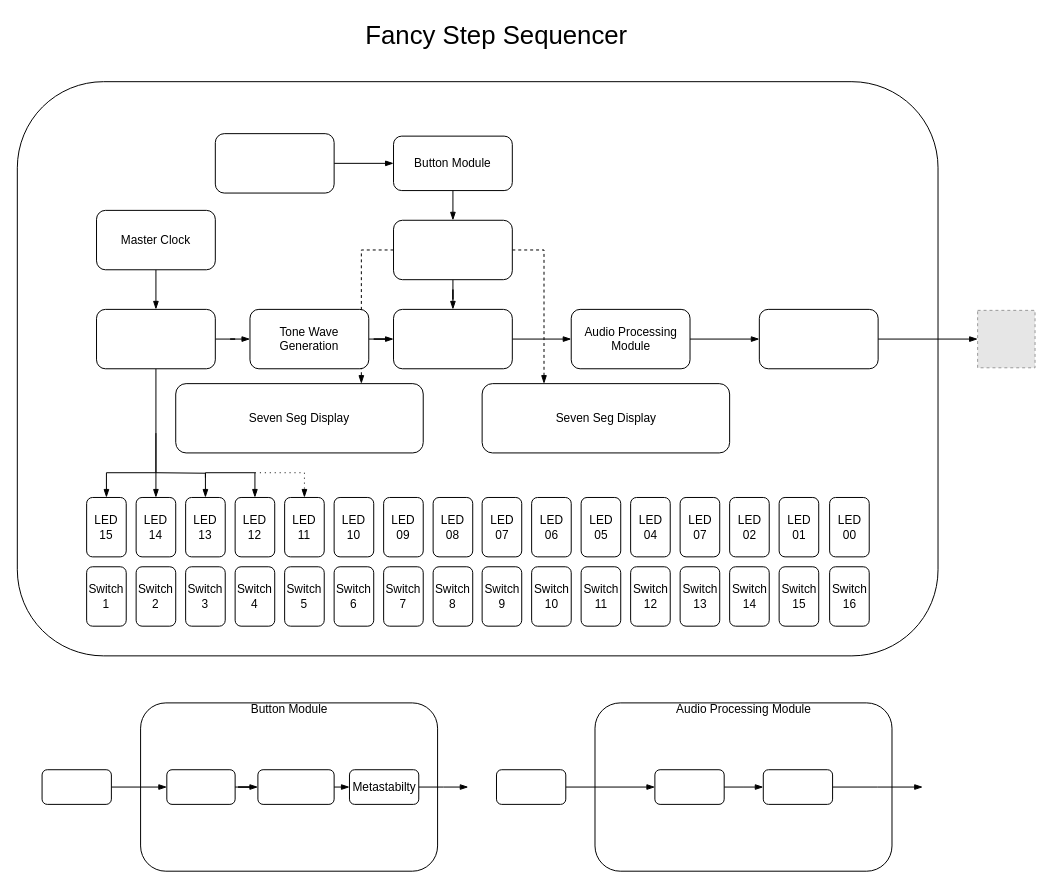
The diagram is 1052 pixels wide and 889 high, and some of its shapes have lost their labels. Grey dashed boxes stand in for pictures. The centre of each missing label's shape, as x and y in pixels:
ADSR, Volume, Note: pixel 452 338
Button U, D, L, R, C: pixel 76 786
Compressor: pixel 797 786
Debounce: pixel 200 786
Digital to Analog Output: pixel 818 338
Hardware Button (U, D, L, R, C): pixel 274 163
Menu: pixel 452 249
Mixer: pixel 689 786
Rising Edge Detector: pixel 295 786
Step 1-16 Audio: pixel 530 786
Tempo: pixel 155 338
